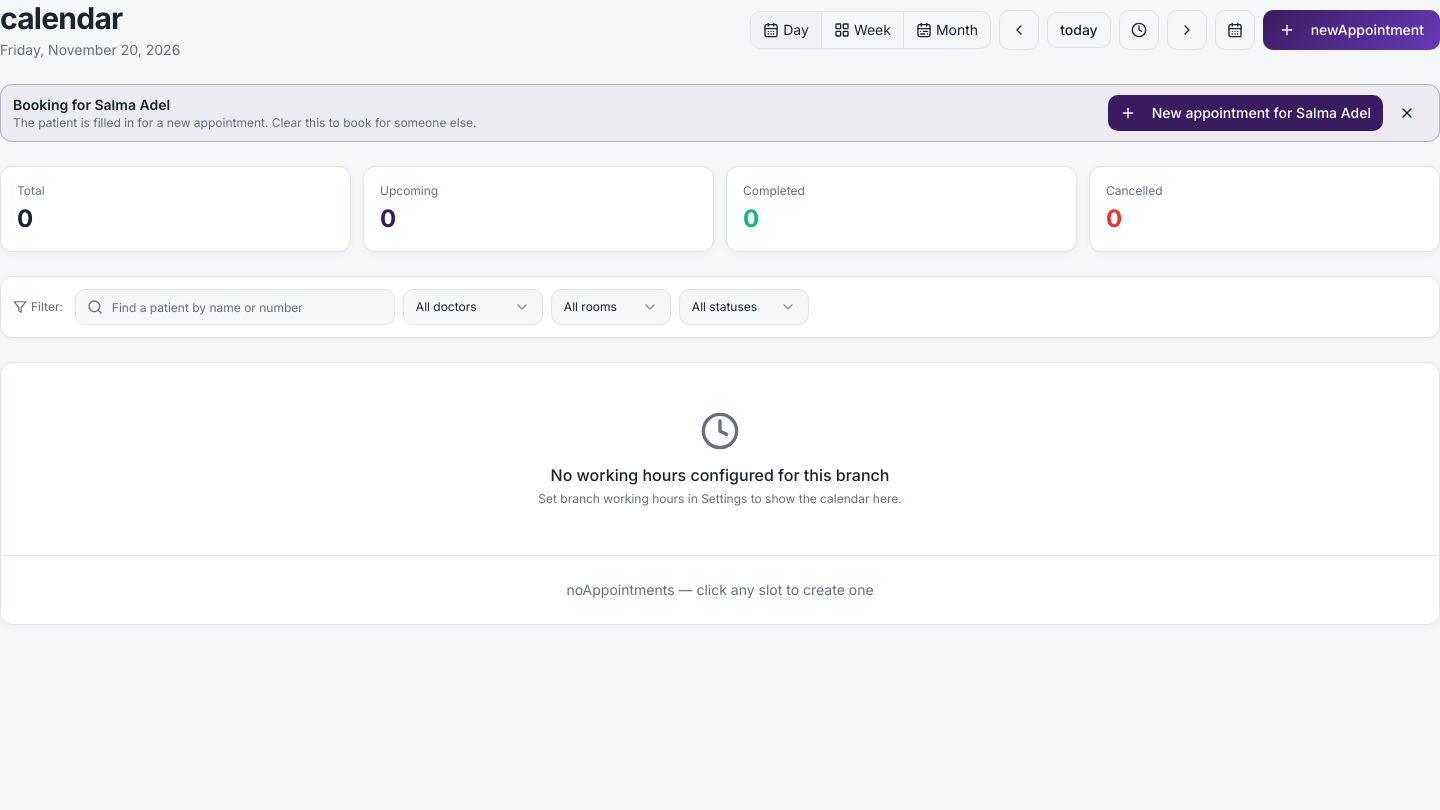
Test case: CalendarPage ?patient_id= deep link › fills the booking form with that patient and saves the appointment for them
The image size is (1440, 810).
Later steps or results of the test are not shown.
Expected: the button "today" is shown, left=1047, top=12, right=1111, bottom=48
Click the button "New appointment for Salma Adel".
click(1245, 113)  # box left=1108, top=95, right=1383, bottom=131
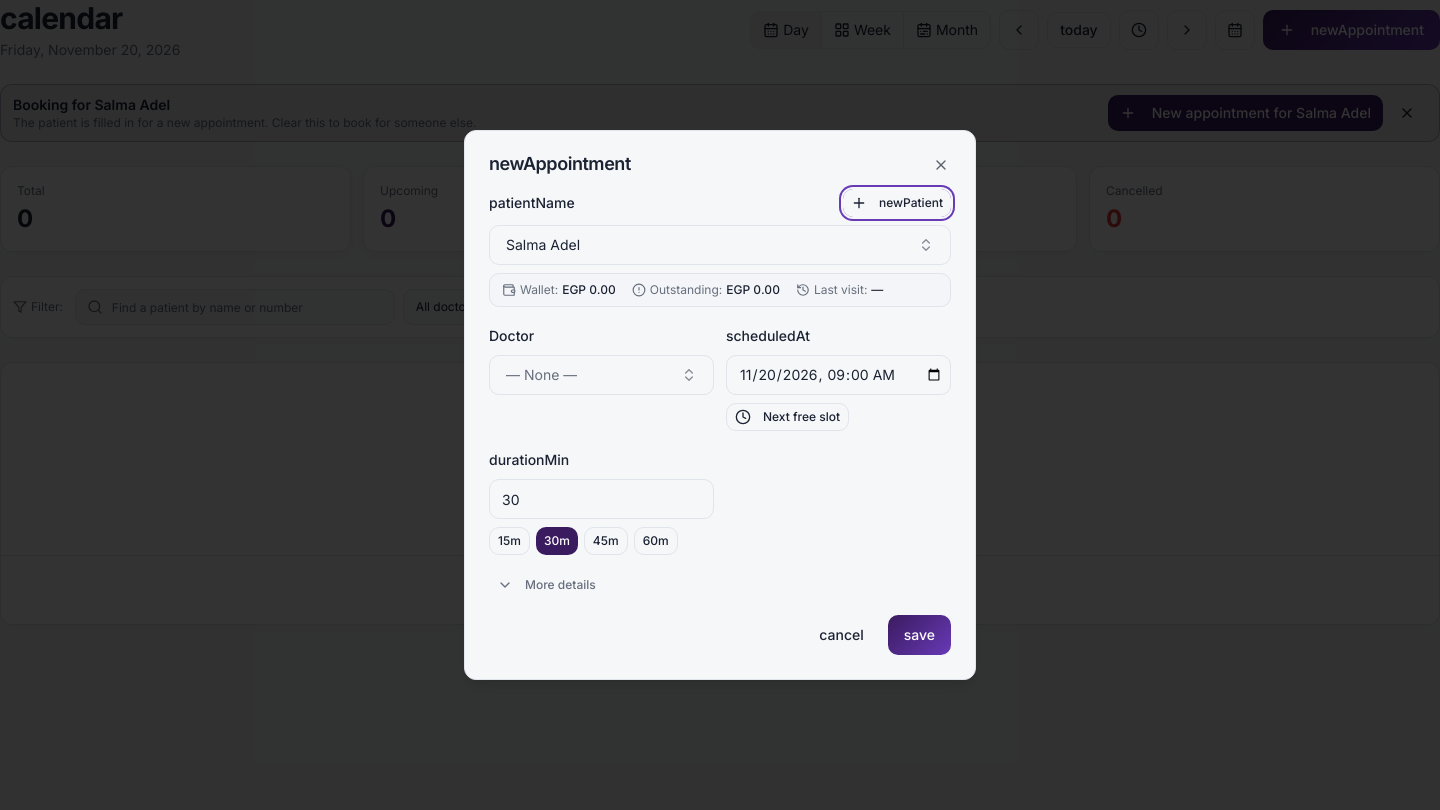
Expected: the text "Salma Adel" is shown, left=506, top=235, right=580, bottom=255
